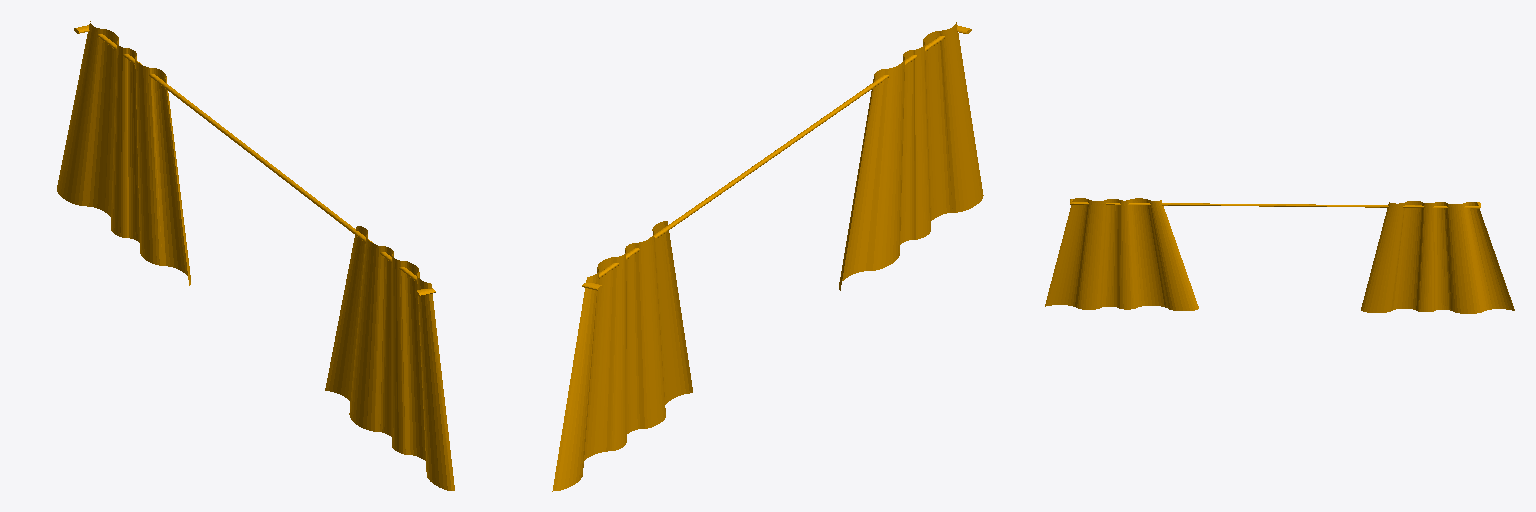
URDF robot description (curtain_4_object):
<robot name="curtain_4_object">
	<link name="_name">
		<visual>
			<origin xyz="3.240830447279127 -0.16555560966764468 -0.2923245097083713" rpy="0.0 0.0 0.0" />
			<geometry>
				<mesh filename="curtain_4_object.obj" />
			</geometry>
		</visual>
		<collision>
			<origin rpy="0.0 0.0 0.0" xyz="3.240830447279127 -0.16555560966764468 -0.2923245097083713" />
			<geometry>
				<mesh filename="curtain_4_object_vhacd.obj" />
			</geometry>
		</collision>
		<inertial>
			<origin rpy="0 0 0" xyz="0 0 0" />
			<mass value="1.0" />
			<inertia ixx="0.001" ixy="0.0" ixz="0.0" iyy="0.001" iyz="0.0" izz="0.001" />
		</inertial>
	</link>
</robot>

--- What the picture shows (computed from the rendered views, not written in the file) ---
The picture shows the robot from 3 angles, left to right: view 1: azimuth 30°, elevation 25°; view 2: azimuth 150°, elevation 25°; view 3: azimuth 270°, elevation 25°; orthographic projection.
Robot: curtain_4_object — 1 links, 0 joints (none); root link _name; default pose: all joints at 0.
Visible links, largest first — view 1: _name; view 2: _name; view 3: _name.
Link boxes in pixels (x1=…): _name: x1=57, y1=21, x2=454, y2=490; _name: x1=552, y1=22, x2=983, y2=491; _name: x1=1045, y1=198, x2=1514, y2=313.
Bounding box of the posed robot: 0.2585 × 5.05 × 1.29 m (x, y, z).
1 mesh visuals loaded from 1 distinct referenced files (1 OBJ).